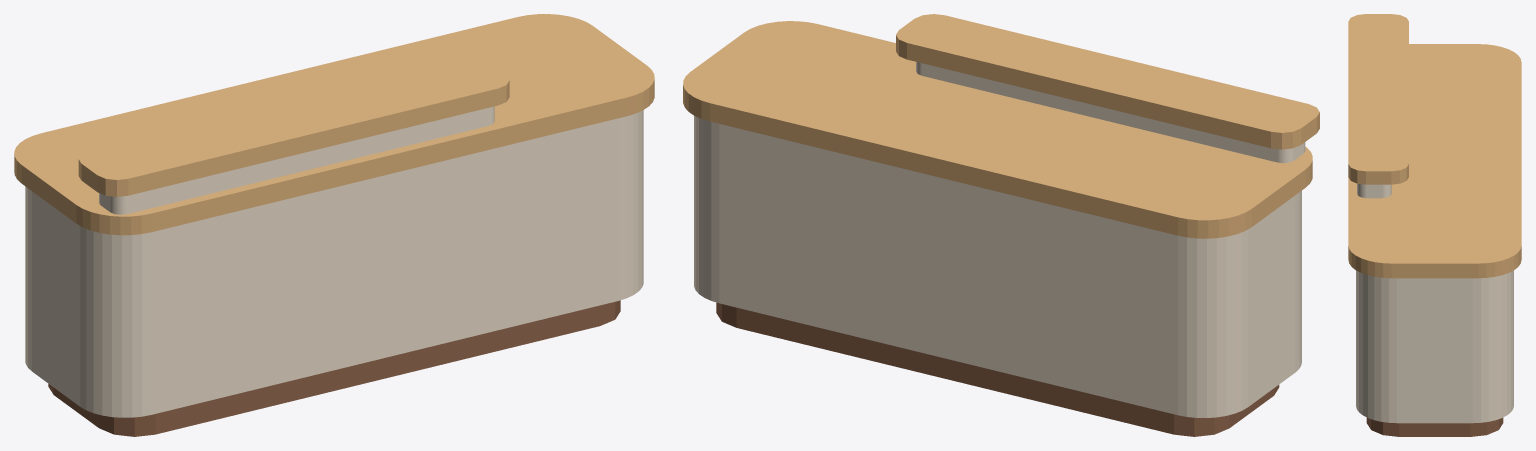
File: kit_reception_desk_v1.glb
The picture shows the model from 3 angles, left to right: view 1: azimuth 30°, elevation 25°; view 2: azimuth 150°, elevation 25°; view 3: azimuth 270°, elevation 25°; orthographic projection. The views are drawn at different scales.
Parts seen in each view (by area): view 1: body; view 2: body; view 3: body.
Part boxes in pixels (bbox=[...]): body: bbox=[14, 14, 654, 436]; body: bbox=[683, 14, 1319, 436]; body: bbox=[1348, 14, 1521, 436].
Size of the model in its own units: 2.4 by 1.1 by 0.8.
